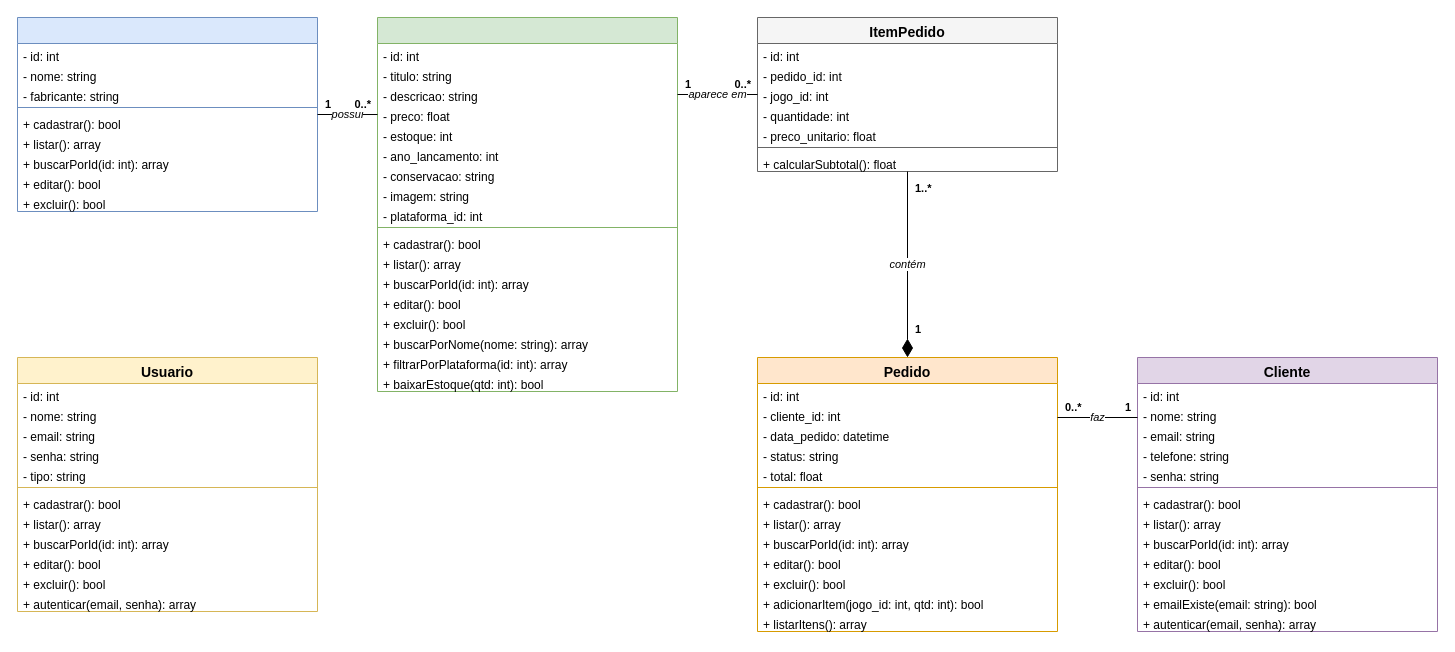
The diagram is 1455 pixels wide and 652 high, and some of its shapes have lost their labels. Each missing label, with the box of its shape:
Jogo: (376, 16, 678, 392)
Plataforma: (16, 16, 318, 212)
